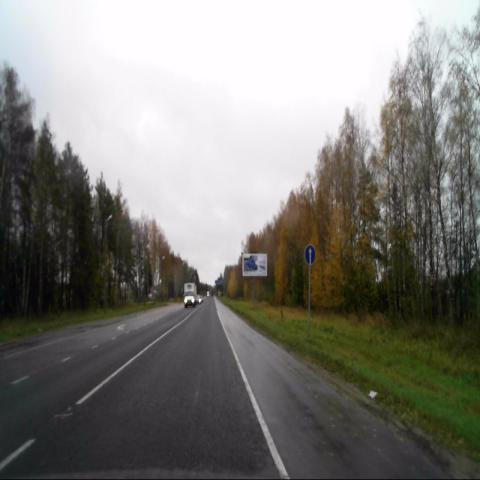4_1_1: (304, 244, 316, 267)
